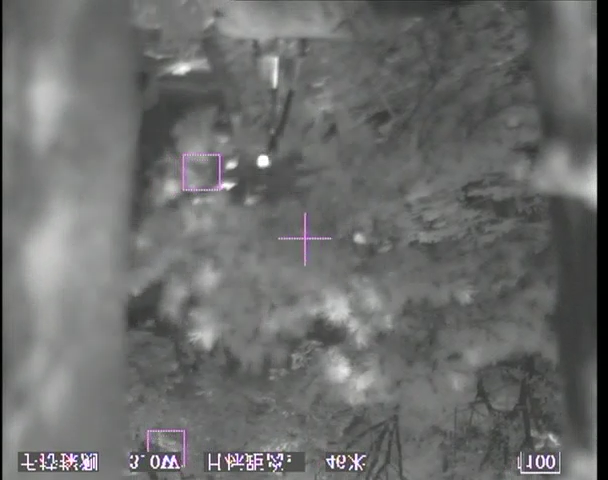my: (256, 154, 269, 169)
